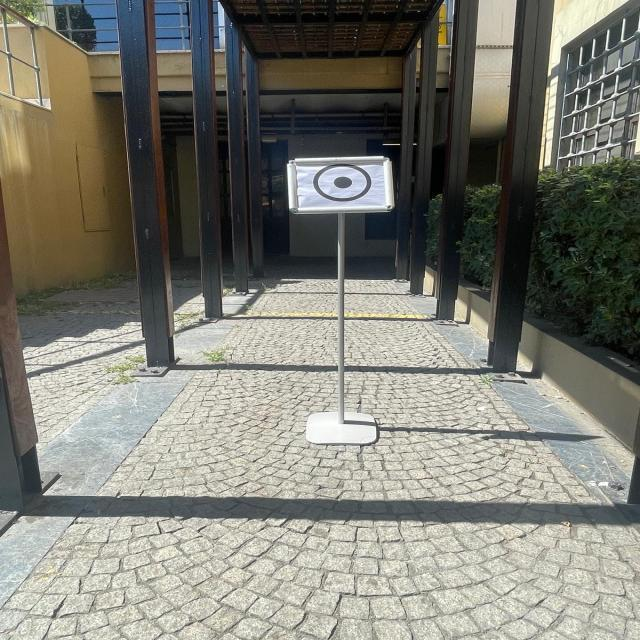Target: (275, 148, 409, 222)
inner: (326, 170, 358, 193)
